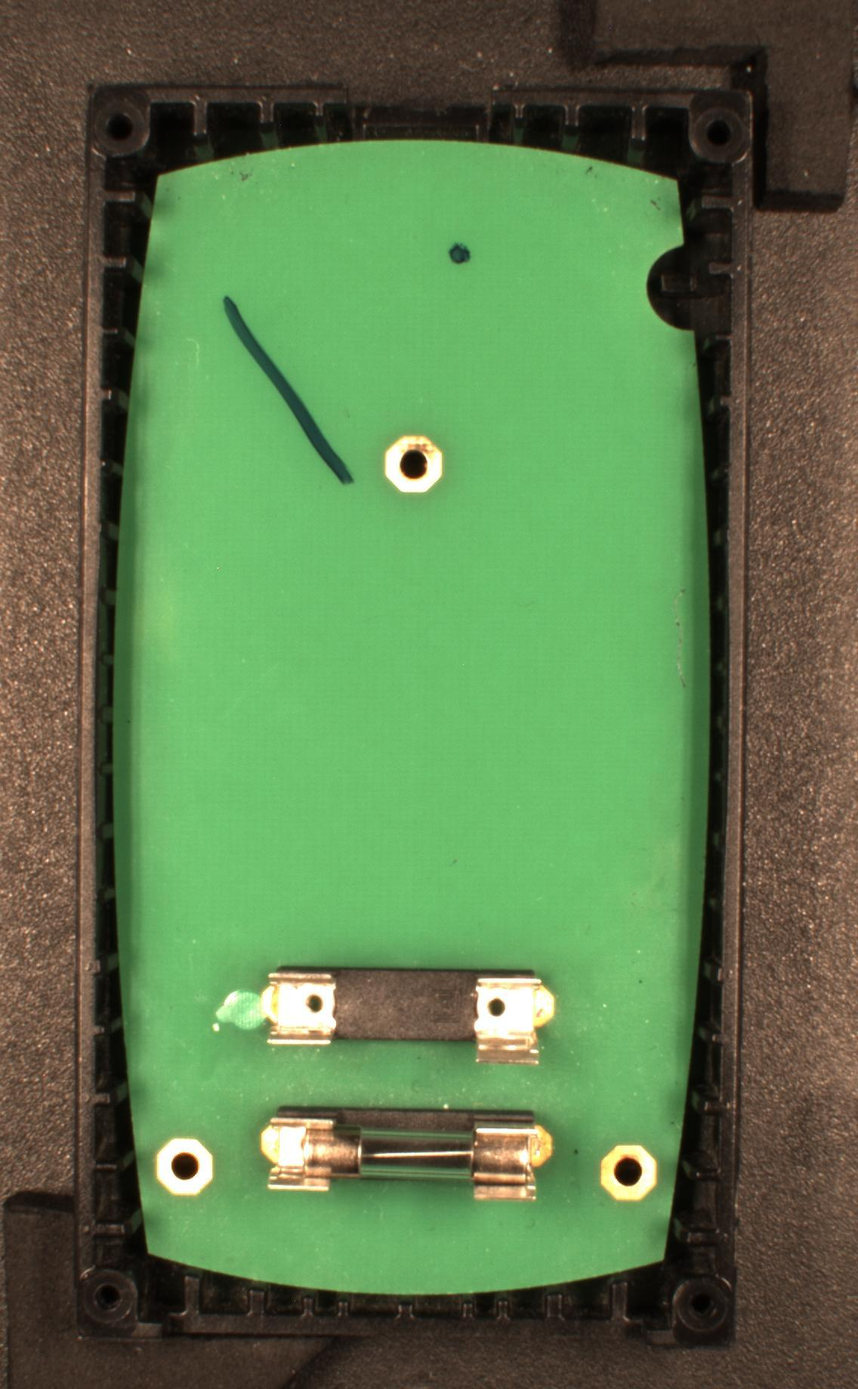Linijsko Ostecene: (220, 293, 356, 489)
Nepostojanje osiguraca: (260, 963, 557, 1068)
Tockasto Ostecenje: (446, 241, 474, 267)
